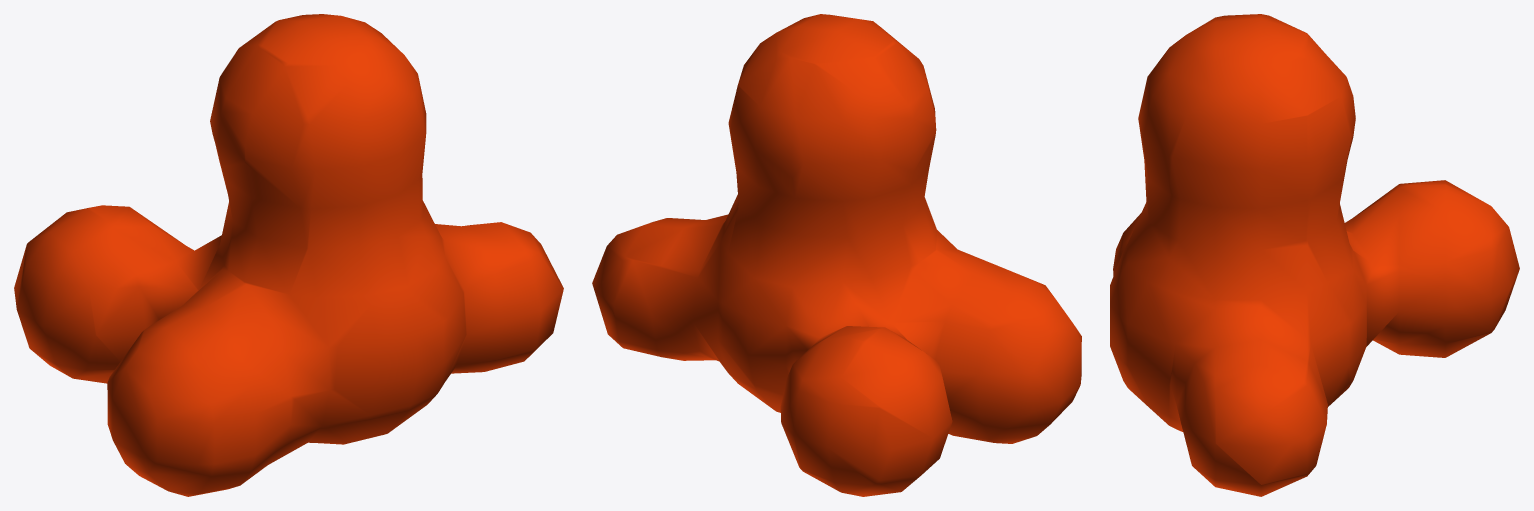
File: bush.fbx
The picture shows the model from 3 angles, left to right: view 1: azimuth 30°, elevation 25°; view 2: azimuth 150°, elevation 25°; view 3: azimuth 270°, elevation 25°; orthographic projection. The views are drawn at different scales.
Visible parts, largest first — view 1: Mball; view 2: Mball; view 3: Mball.
Part boxes in pixels (x1,y1,x2,y2): Mball: (14, 14, 563, 496); Mball: (592, 14, 1081, 496); Mball: (1110, 14, 1519, 496).
Bounding box in the file's own units: 830 × 705 × 641.
